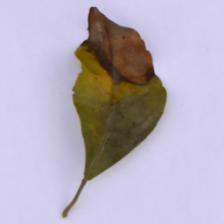black spot: (67, 7, 161, 82)
